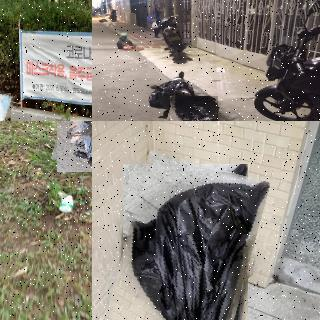Garbage: (112, 157, 259, 320), (54, 121, 92, 177), (168, 93, 219, 121), (150, 85, 195, 109), (0, 92, 13, 121)
